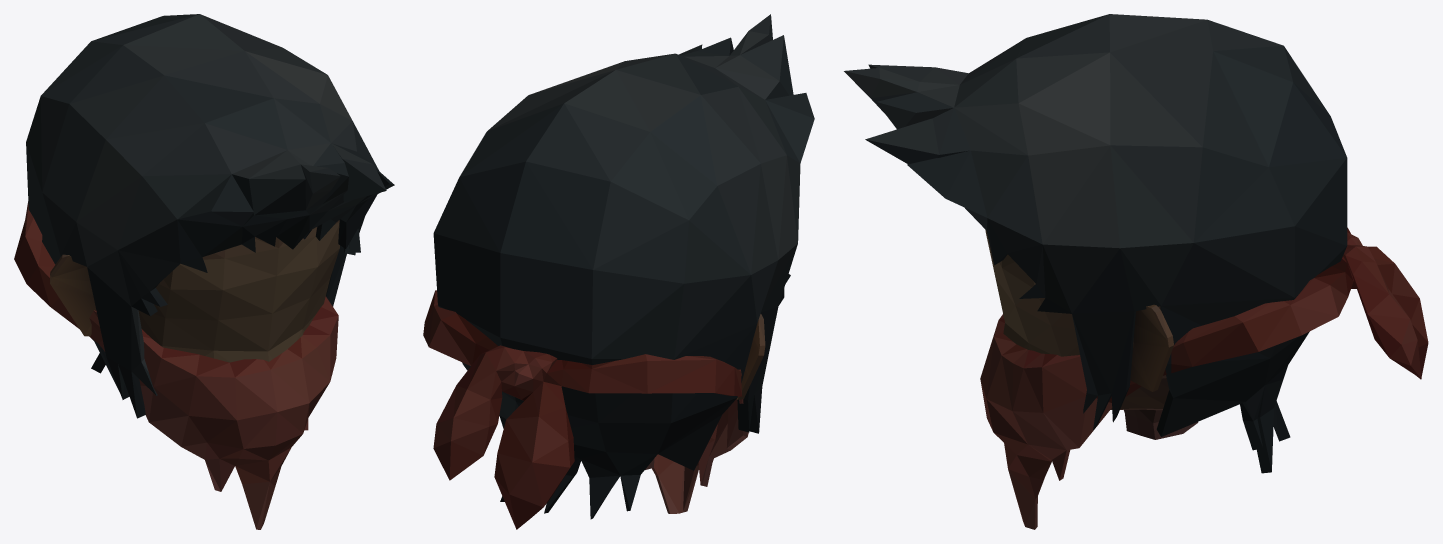
The model's file is helm_darkskin_standard_black_badnana.fbx.
3 views of the same model, side by side, from view 1: azimuth 30°, elevation 25°; view 2: azimuth 150°, elevation 25°; view 3: azimuth 270°, elevation 25° (orthographic). The views are drawn at different scales.
Parts seen in each view (by area): view 1: helm_darkskin_standard_black_badnana; view 2: helm_darkskin_standard_black_badnana; view 3: helm_darkskin_standard_black_badnana.
Part boxes in pixels (bbox=[...]): helm_darkskin_standard_black_badnana: bbox=[14, 14, 394, 529]; helm_darkskin_standard_black_badnana: bbox=[423, 14, 814, 529]; helm_darkskin_standard_black_badnana: bbox=[844, 14, 1428, 529].
Size of the model in its own units: 1.13 by 1.66 by 1.8.
